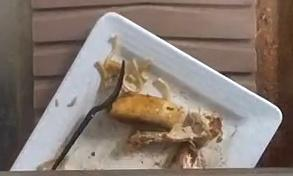fish: (109, 92, 182, 129)
